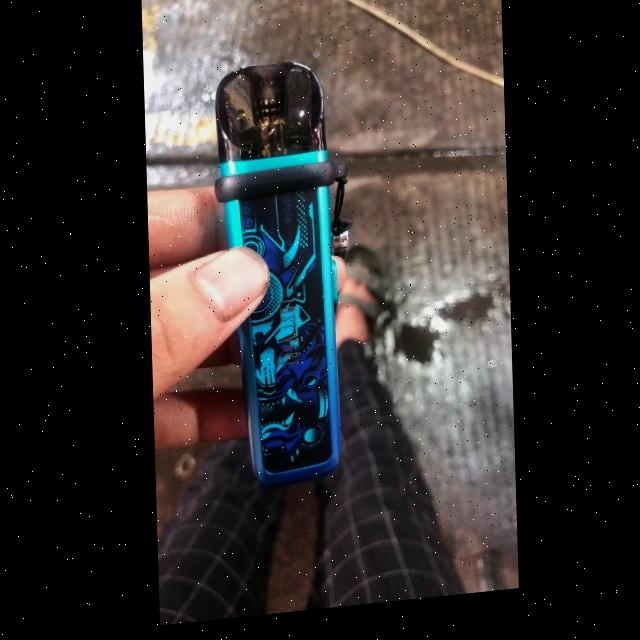vape: (208, 60, 344, 494)
